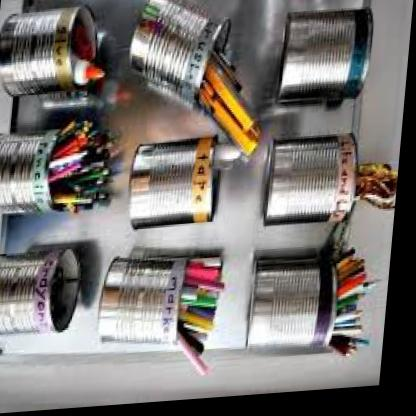Metal: (0, 0, 401, 394)
